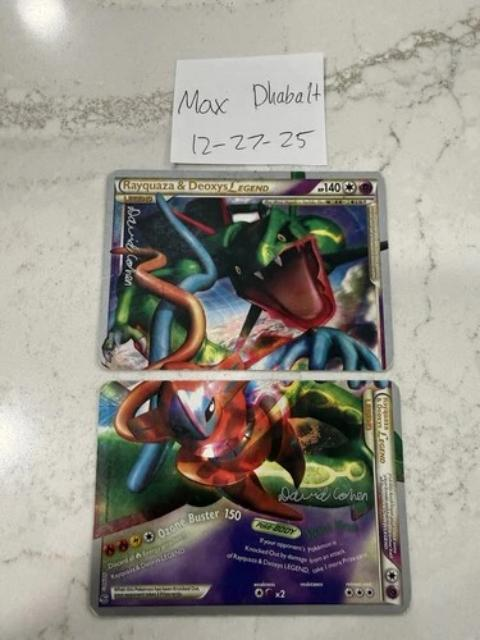Card: (87, 377, 416, 621), (94, 167, 398, 376)
Name: (117, 177, 273, 195), (371, 392, 394, 473)
